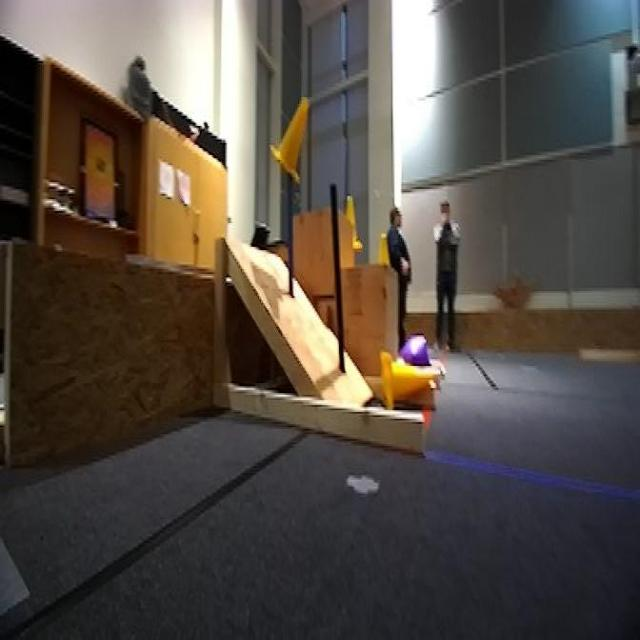frc_cone: (272, 94, 310, 185), (378, 352, 433, 412), (340, 196, 364, 255), (376, 233, 392, 271)
frc_cube: (402, 335, 431, 378)
